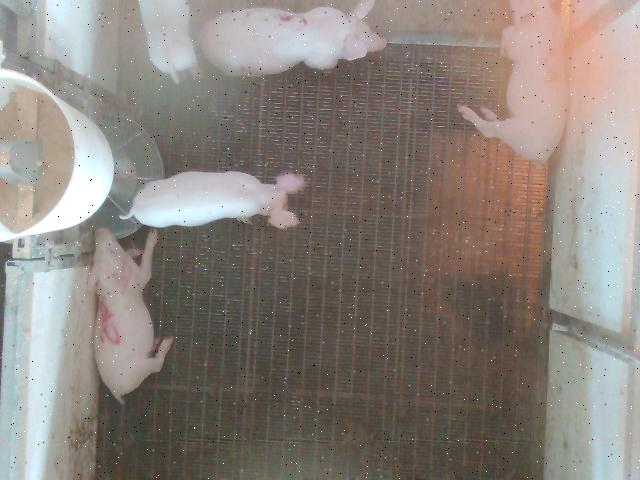pig-2: (458, 2, 568, 162)
pig-3: (199, 1, 386, 76)
pig-5: (88, 229, 174, 404)
